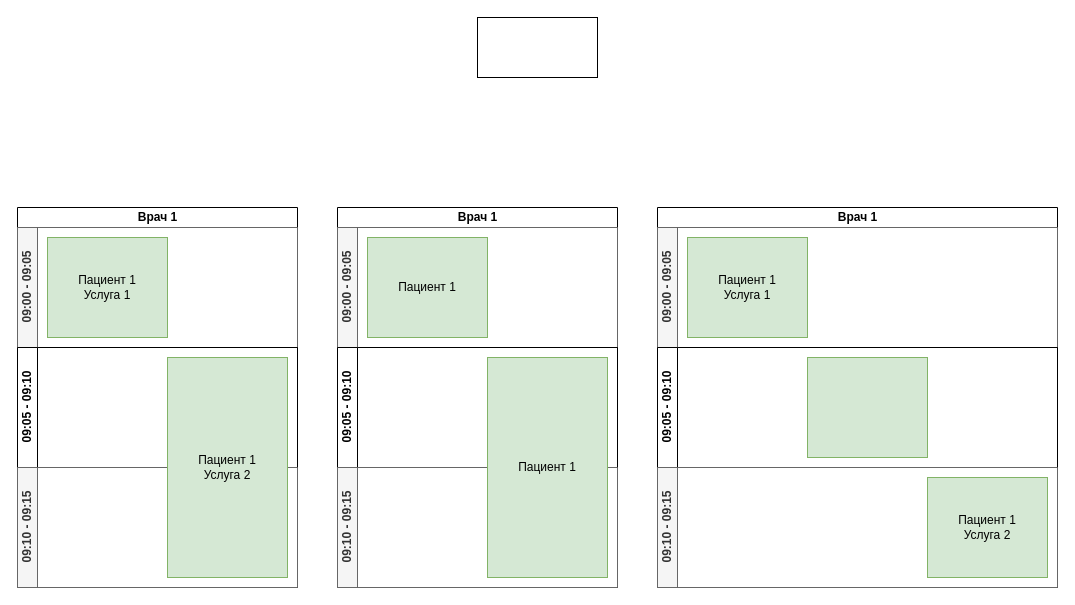
Image size: 1075x605. Some labels were removed from this diagram. Each missing label, with the centre of its shape:
За один раз: point 537,47
Пациент 2 Услуга 1: point 867,407
